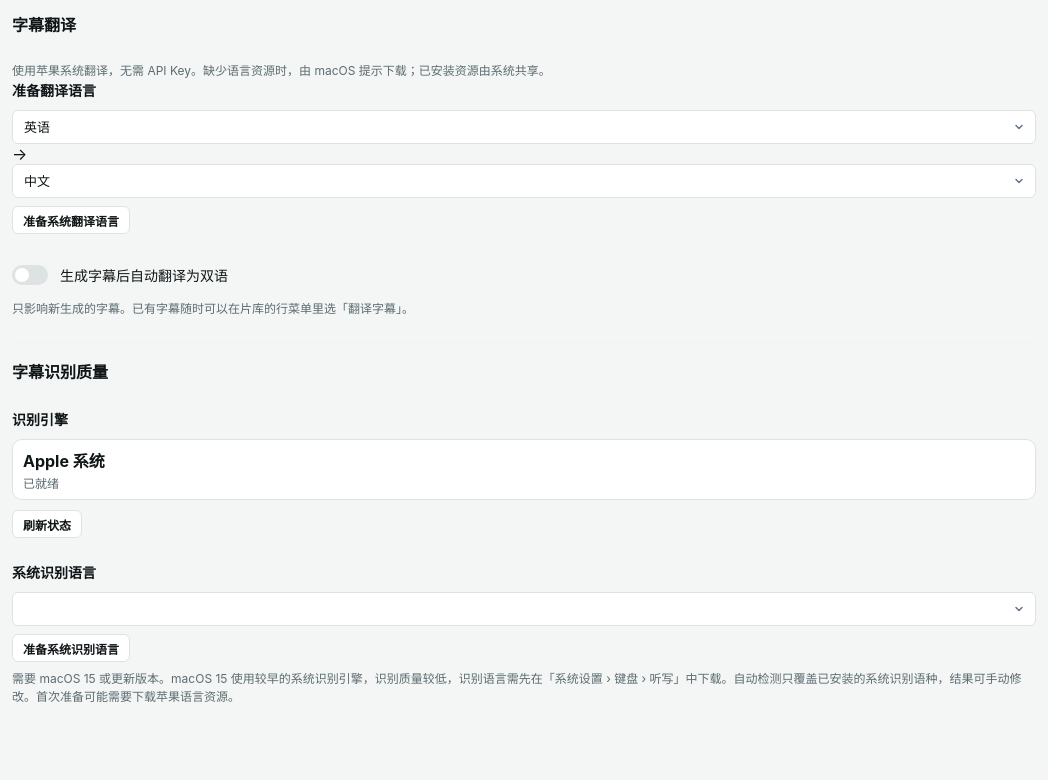
Test: 苹果系统语言准备 › 通过系统接口准备翻译语言，不保存API配置
Click the button with test id "apple-translation-prepare" at x=71, y=220, box 12,206 -> 130,234
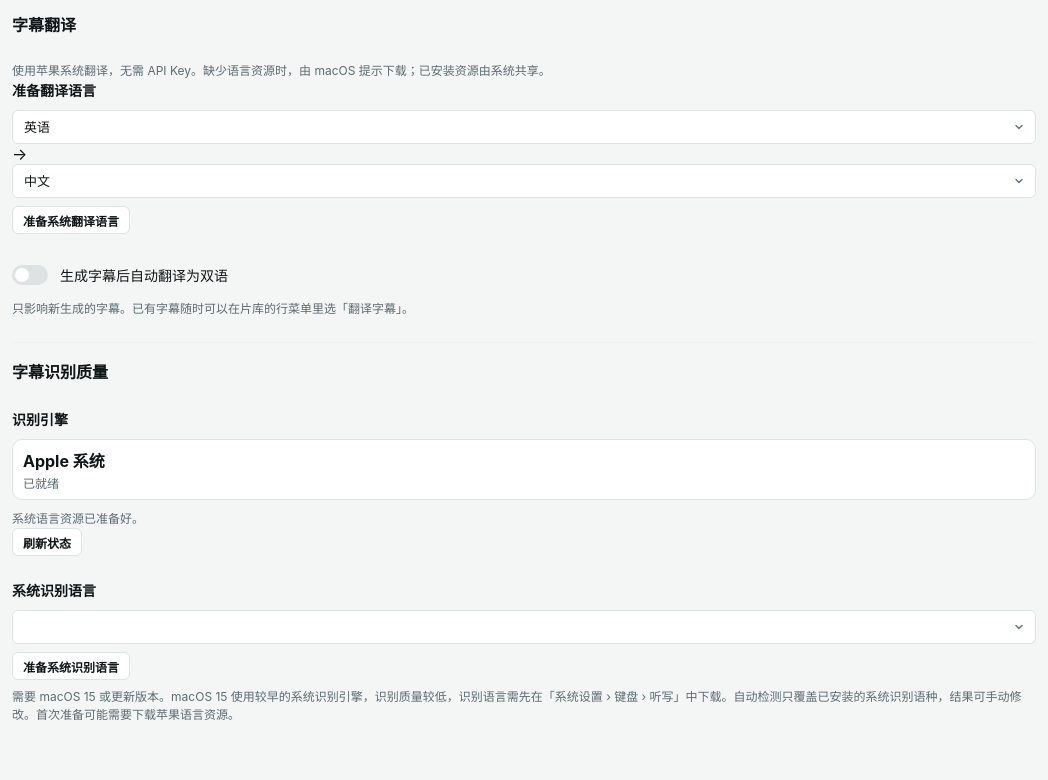
expect the text "系统语言资源已准备好" is shown: met, box 12,511 -> 144,526
